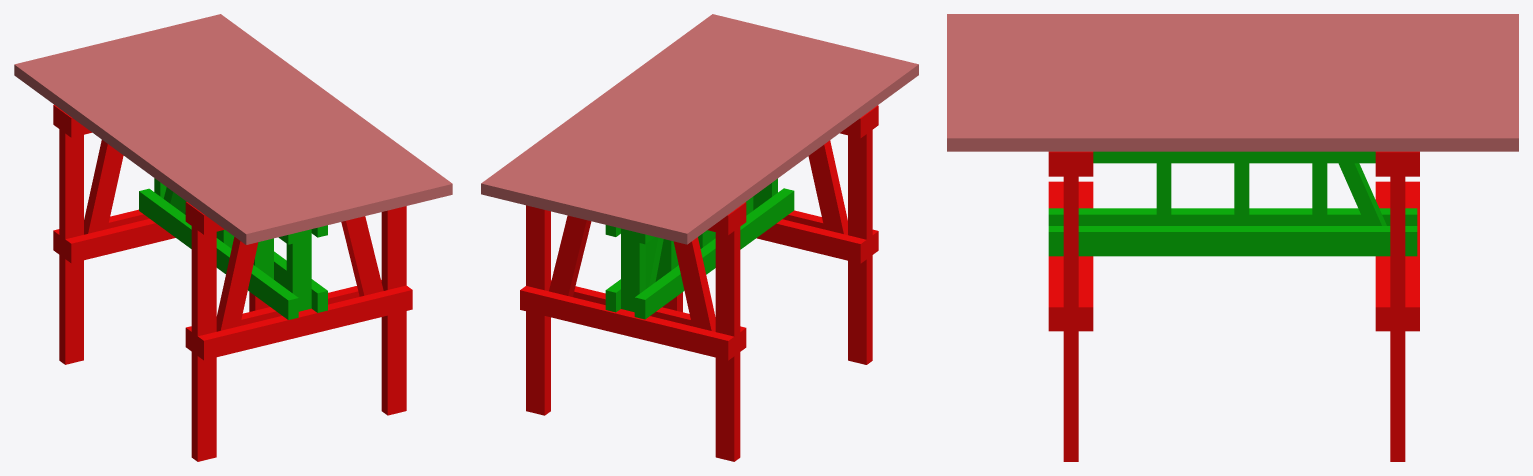
Rendered from result.glb.
The picture shows the model from 3 angles, left to right: view 1: azimuth 30°, elevation 25°; view 2: azimuth 150°, elevation 25°; view 3: azimuth 270°, elevation 25°; orthographic projection. The views are drawn at different scales.
Parts seen in each view (by area): view 1: e5d3e701-8b40-4688-b004-509242adacfd__Box, 806dc711-6e3a-427e-98a5-f51a359d7972__sideV, 48e28bf7-5256-496f-9367-ae34e92a8fb8__sideH, 46a0edcc-98f8-42ce-87f3-03825f202647__undefined, 78d0dbe0-95fe-4ee6-81a2-86016628d8fd__sideV, f2d6c48a-3ea7-461b-82b9-c38d8b42c218__undefined, fded1589-a6c5-49fd-8813-15190cbc4550__undefined, f39edc26-a190-434f-beba-6f2e94f40d2a__undefined, c4684657-1517-49b7-baf5-5697a9d5baed__undefined, 2519a136-b855-42fd-a1dc-de14519d853f__undefined, 190dd01d-cb79-47ce-ae9e-6f91083ef85a__undefined, e5301124-b297-4228-bf2e-c1d553a67062__undefined (+13 smaller); view 2: e5d3e701-8b40-4688-b004-509242adacfd__Box, 46a0edcc-98f8-42ce-87f3-03825f202647__undefined, 351fcad7-ef0f-4d79-8b82-306c995e3edb__undefined, 806dc711-6e3a-427e-98a5-f51a359d7972__sideV, f2d6c48a-3ea7-461b-82b9-c38d8b42c218__undefined, e5301124-b297-4228-bf2e-c1d553a67062__undefined, fded1589-a6c5-49fd-8813-15190cbc4550__undefined, 190dd01d-cb79-47ce-ae9e-6f91083ef85a__undefined, 21fc3cf7-d43f-4d80-9a7e-6add22f70053__undefined, c4684657-1517-49b7-baf5-5697a9d5baed__undefined, 2519a136-b855-42fd-a1dc-de14519d853f__undefined, f39edc26-a190-434f-beba-6f2e94f40d2a__undefined (+14 smaller); view 3: e3e8c383-f2c2-4c97-9db5-3254801f7ba0__undefined, fe045c12-0b28-4c3e-9fd9-ce2048d1769a__strutH, e5d3e701-8b40-4688-b004-509242adacfd__Box, 2519a136-b855-42fd-a1dc-de14519d853f__undefined, fded1589-a6c5-49fd-8813-15190cbc4550__undefined, c4684657-1517-49b7-baf5-5697a9d5baed__undefined, e5301124-b297-4228-bf2e-c1d553a67062__undefined, 7acd3416-4d9e-4277-af86-028f9c66adcf__undefined, 190dd01d-cb79-47ce-ae9e-6f91083ef85a__undefined, f39edc26-a190-434f-beba-6f2e94f40d2a__undefined, f2d6c48a-3ea7-461b-82b9-c38d8b42c218__undefined, 21fc3cf7-d43f-4d80-9a7e-6add22f70053__undefined (+12 smaller).
Part boxes in pixels (x1,y1,x2,y2): e5d3e701-8b40-4688-b004-509242adacfd__Box: (14,60,264,244); 806dc711-6e3a-427e-98a5-f51a359d7972__sideV: (191,206,216,461); 48e28bf7-5256-496f-9367-ae34e92a8fb8__sideH: (197,285,412,360); 46a0edcc-98f8-42ce-87f3-03825f202647__undefined: (59,109,83,364); 78d0dbe0-95fe-4ee6-81a2-86016628d8fd__sideV: (381,206,406,415); f2d6c48a-3ea7-461b-82b9-c38d8b42c218__undefined: (165,23,415,208); fded1589-a6c5-49fd-8813-15190cbc4550__undefined: (52,50,302,235); f39edc26-a190-434f-beba-6f2e94f40d2a__undefined: (146,27,396,212); c4684657-1517-49b7-baf5-5697a9d5baed__undefined: (71,46,321,231); 2519a136-b855-42fd-a1dc-de14519d853f__undefined: (33,55,283,240); 190dd01d-cb79-47ce-ae9e-6f91083ef85a__undefined: (127,32,377,217); e5301124-b297-4228-bf2e-c1d553a67062__undefined: (89,41,339,226); e5d3e701-8b40-4688-b004-509242adacfd__Box: (668,60,918,244); 46a0edcc-98f8-42ce-87f3-03825f202647__undefined: (715,206,740,461); 351fcad7-ef0f-4d79-8b82-306c995e3edb__undefined: (520,286,734,360); 806dc711-6e3a-427e-98a5-f51a359d7972__sideV: (848,110,872,364); f2d6c48a-3ea7-461b-82b9-c38d8b42c218__undefined: (518,23,768,207); e5301124-b297-4228-bf2e-c1d553a67062__undefined: (593,41,843,226); fded1589-a6c5-49fd-8813-15190cbc4550__undefined: (631,50,880,235); 190dd01d-cb79-47ce-ae9e-6f91083ef85a__undefined: (556,32,805,217); 21fc3cf7-d43f-4d80-9a7e-6add22f70053__undefined: (500,18,749,203); c4684657-1517-49b7-baf5-5697a9d5baed__undefined: (612,46,862,230); 2519a136-b855-42fd-a1dc-de14519d853f__undefined: (650,55,899,239); f39edc26-a190-434f-beba-6f2e94f40d2a__undefined: (537,28,786,212); e3e8c383-f2c2-4c97-9db5-3254801f7ba0__undefined: (947,127,1518,151); fe045c12-0b28-4c3e-9fd9-ce2048d1769a__strutH: (1048,226,1417,256); e5d3e701-8b40-4688-b004-509242adacfd__Box: (947,14,1518,25); 2519a136-b855-42fd-a1dc-de14519d853f__undefined: (947,25,1518,36); fded1589-a6c5-49fd-8813-15190cbc4550__undefined: (947,36,1518,47); c4684657-1517-49b7-baf5-5697a9d5baed__undefined: (947,48,1518,59); e5301124-b297-4228-bf2e-c1d553a67062__undefined: (947,59,1518,70); 7acd3416-4d9e-4277-af86-028f9c66adcf__undefined: (947,70,1518,81); 190dd01d-cb79-47ce-ae9e-6f91083ef85a__undefined: (947,81,1518,92); f39edc26-a190-434f-beba-6f2e94f40d2a__undefined: (947,93,1518,104); f2d6c48a-3ea7-461b-82b9-c38d8b42c218__undefined: (947,104,1518,115); 21fc3cf7-d43f-4d80-9a7e-6add22f70053__undefined: (947,115,1518,126).
Size of the model in its own units: 800 by 960 by 1540.
